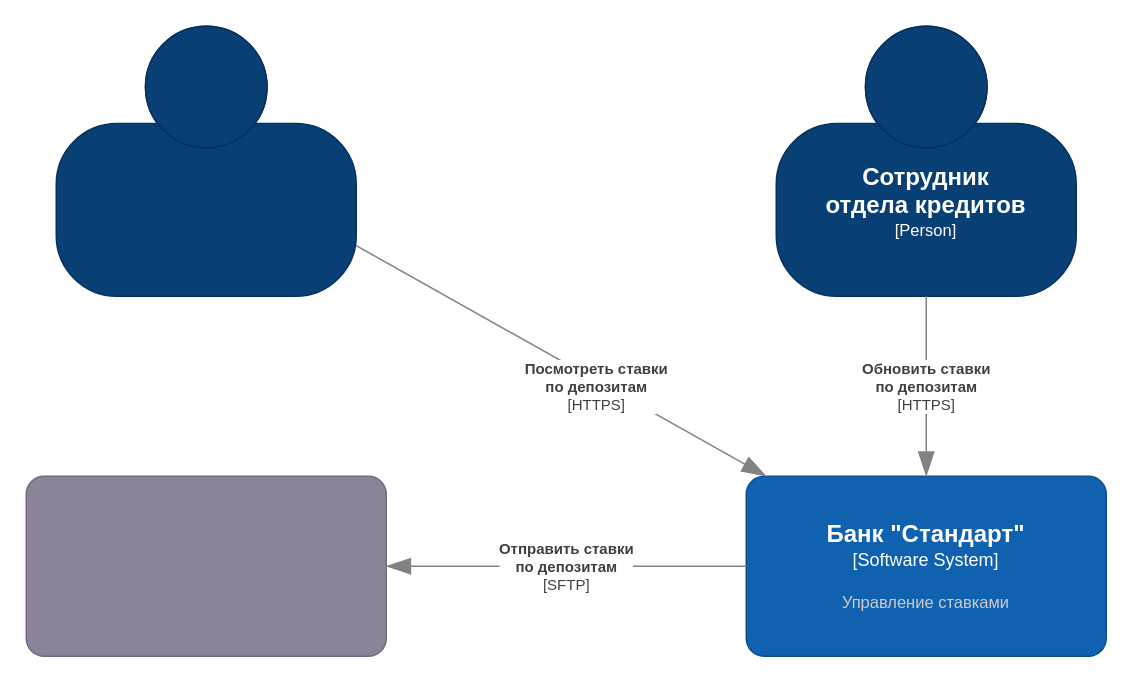
Image size: 1133x683. Some labels were removed from this diagram. The shapes that lost their labels are listed below. From the top down, each one's centre as x and y in pixels, then its label:
[205,160]: Сотрудник колл-центра [Person]
[205,565]: Партнёрский колл-центр [Software System]
